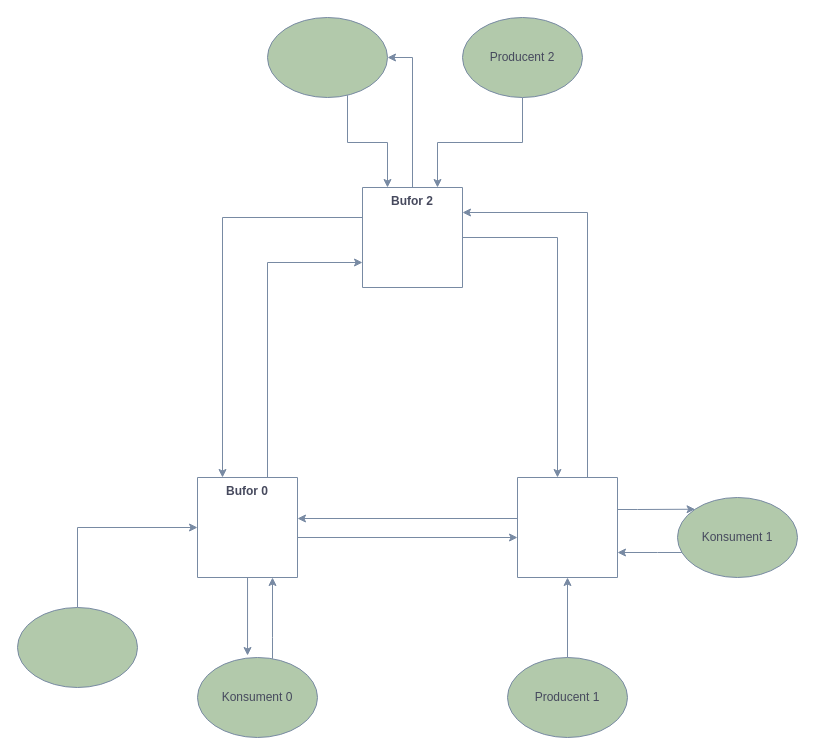
Some shapes in this 815 by 755 pixel diagram are drawn without their labels. Each missing label, with the box of its shape:
Bufor 1: (516, 476, 618, 578)
Konsument 2: (266, 16, 388, 98)
Producent 0: (16, 606, 138, 688)
